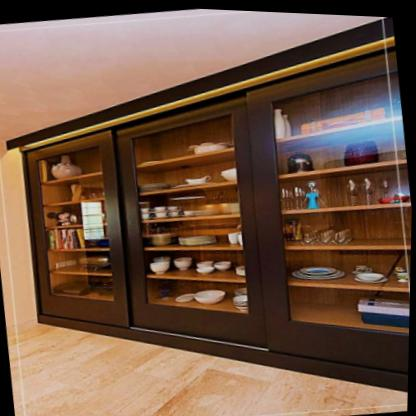Cupboard: (8, 15, 413, 389)
Wooden floor: (7, 321, 409, 416)
